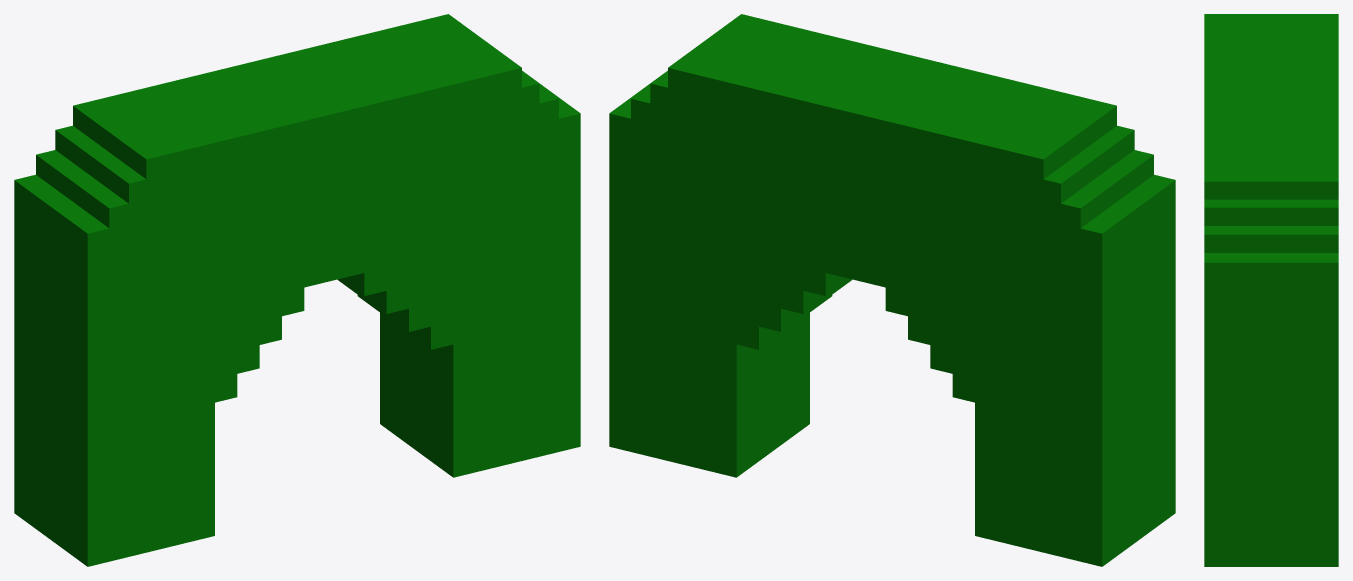
File: shield.obj
The picture shows the model from 3 angles, left to right: view 1: azimuth 30°, elevation 25°; view 2: azimuth 150°, elevation 25°; view 3: azimuth 270°, elevation 25°; orthographic projection. The views are drawn at different scales.
Visible parts, largest first — view 1: Shield; view 2: Shield; view 3: Shield.
Boxes of the visible parts, <box> form: Shield: <box>14,14,580,566</box>; Shield: <box>609,14,1175,566</box>; Shield: <box>1204,14,1338,566</box>.
Size of the model in its own units: 1.97 by 1.5 by 0.508.
1 material, 1 textured.
